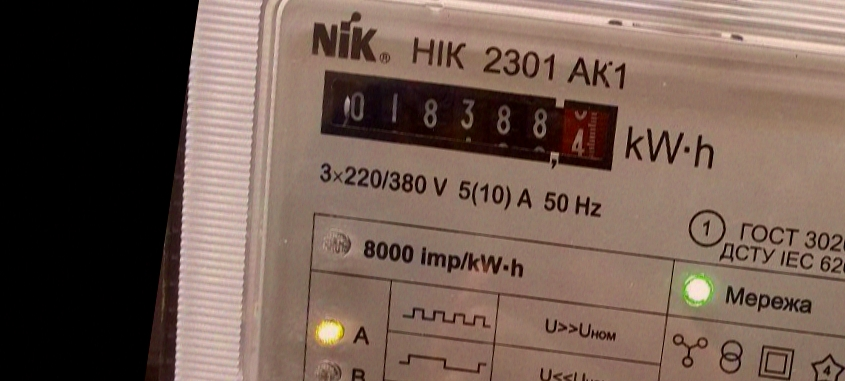0: (344, 87, 369, 126)
1: (382, 88, 406, 127)
3: (455, 96, 480, 133)
4: (566, 124, 590, 159)
8: (527, 104, 553, 143), (417, 94, 443, 132), (491, 102, 516, 140)
screen: (306, 54, 634, 189)
